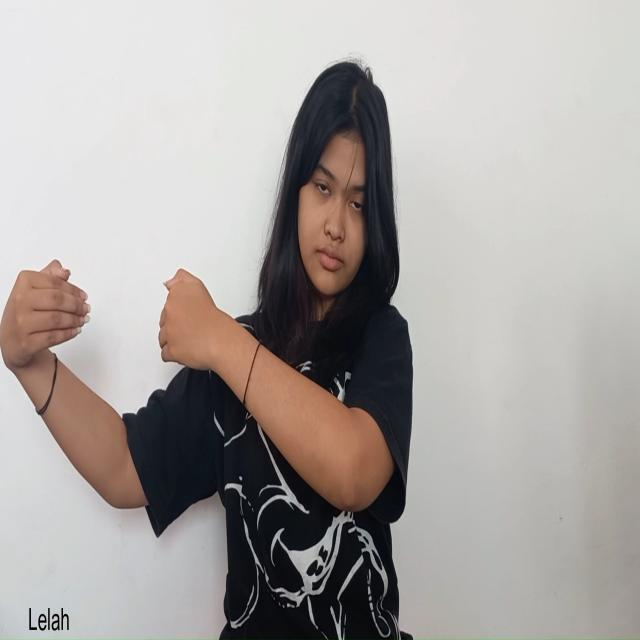Lelah -BISINDO-: (0, 258, 227, 381)
